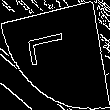L_E: (31, 35, 79, 75)
